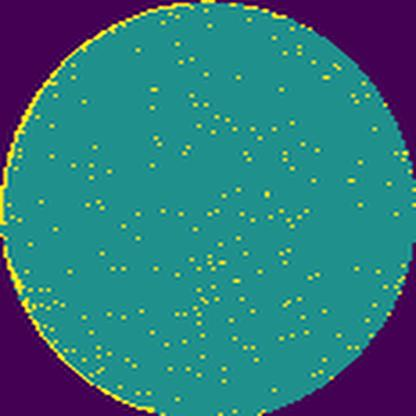Edge-Ring: (0, 0, 192, 416)
